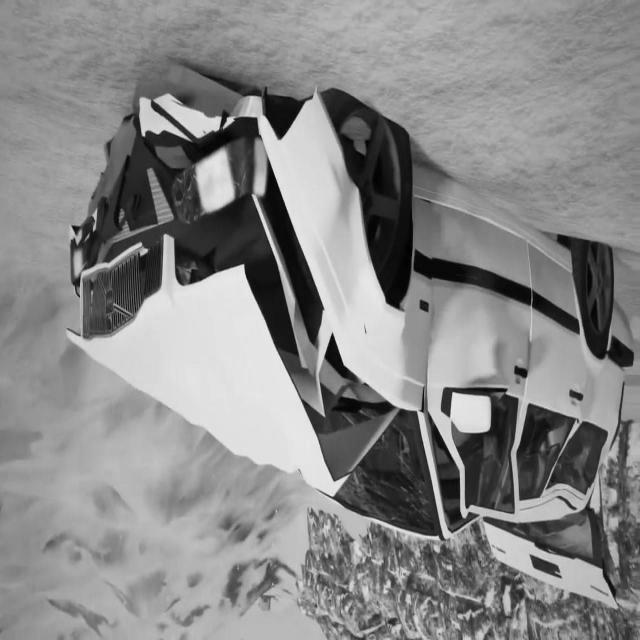severe: (62, 60, 636, 610)
